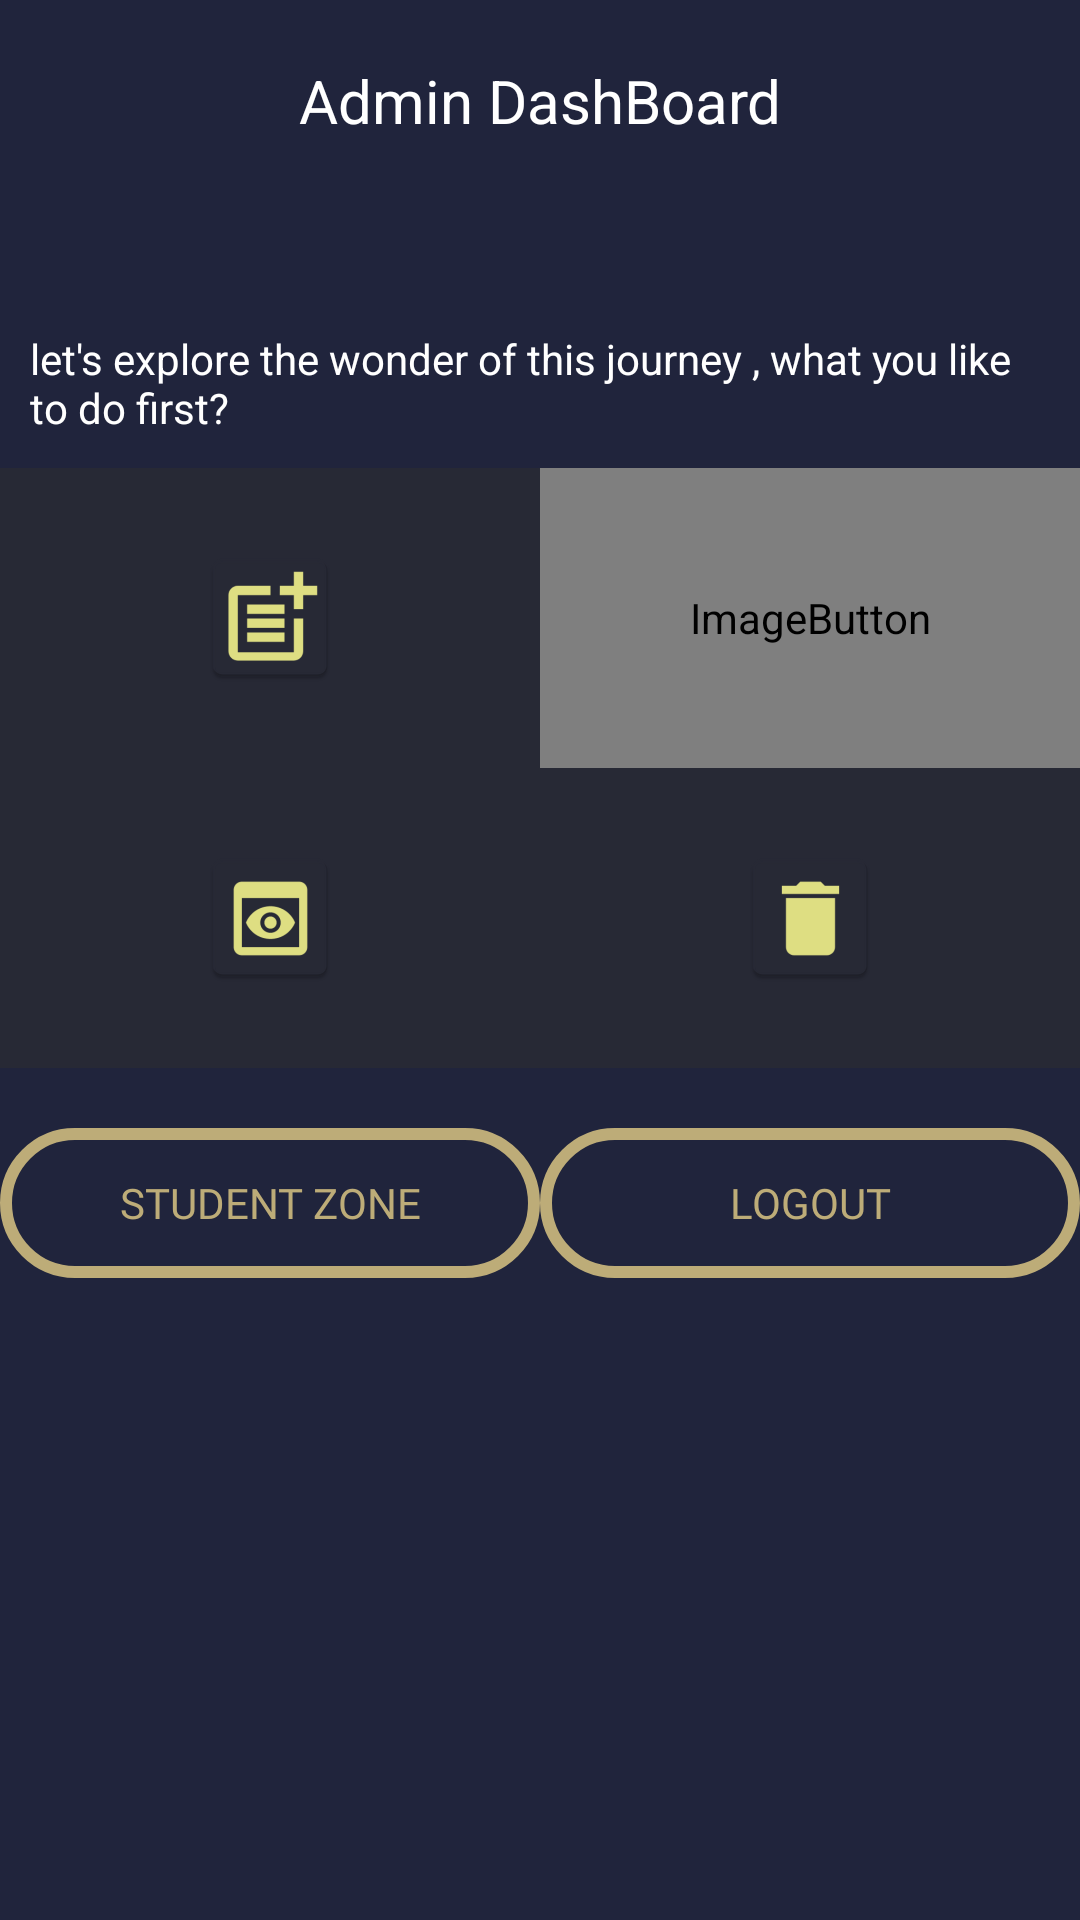

Where to tap for icons on this 1080×1920 app screen, as [x,y]:
admin delete: [810,918]
admin rcdadd: [273,616]
admin view: [270,918]
